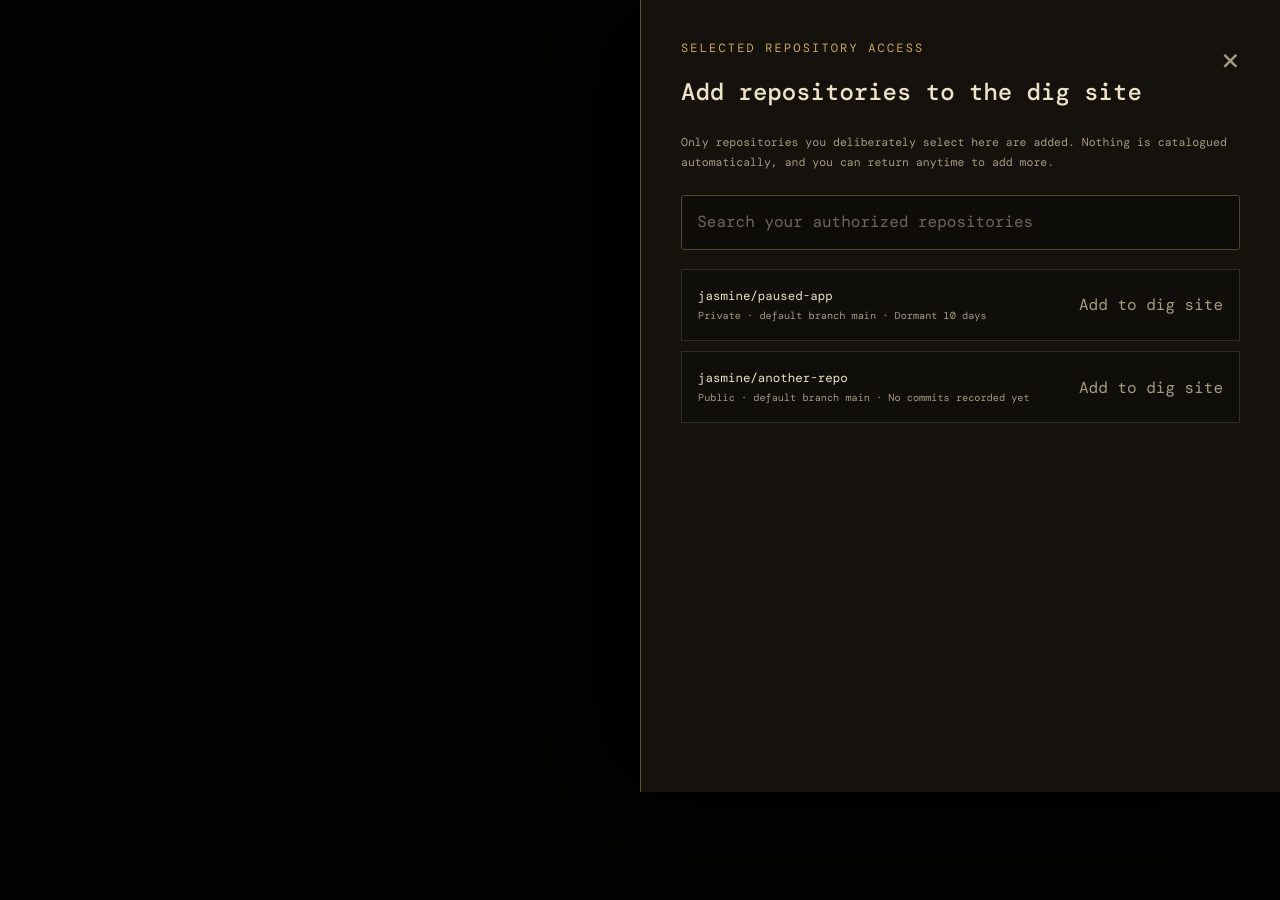
Test case: RepositoryPicker › shows a no-match message when the search has no results
Type "nothing-matches-this" into the search field named "Search authorized repositories". click: {"x": 960, "y": 222}
box: [681, 195, 1240, 250]
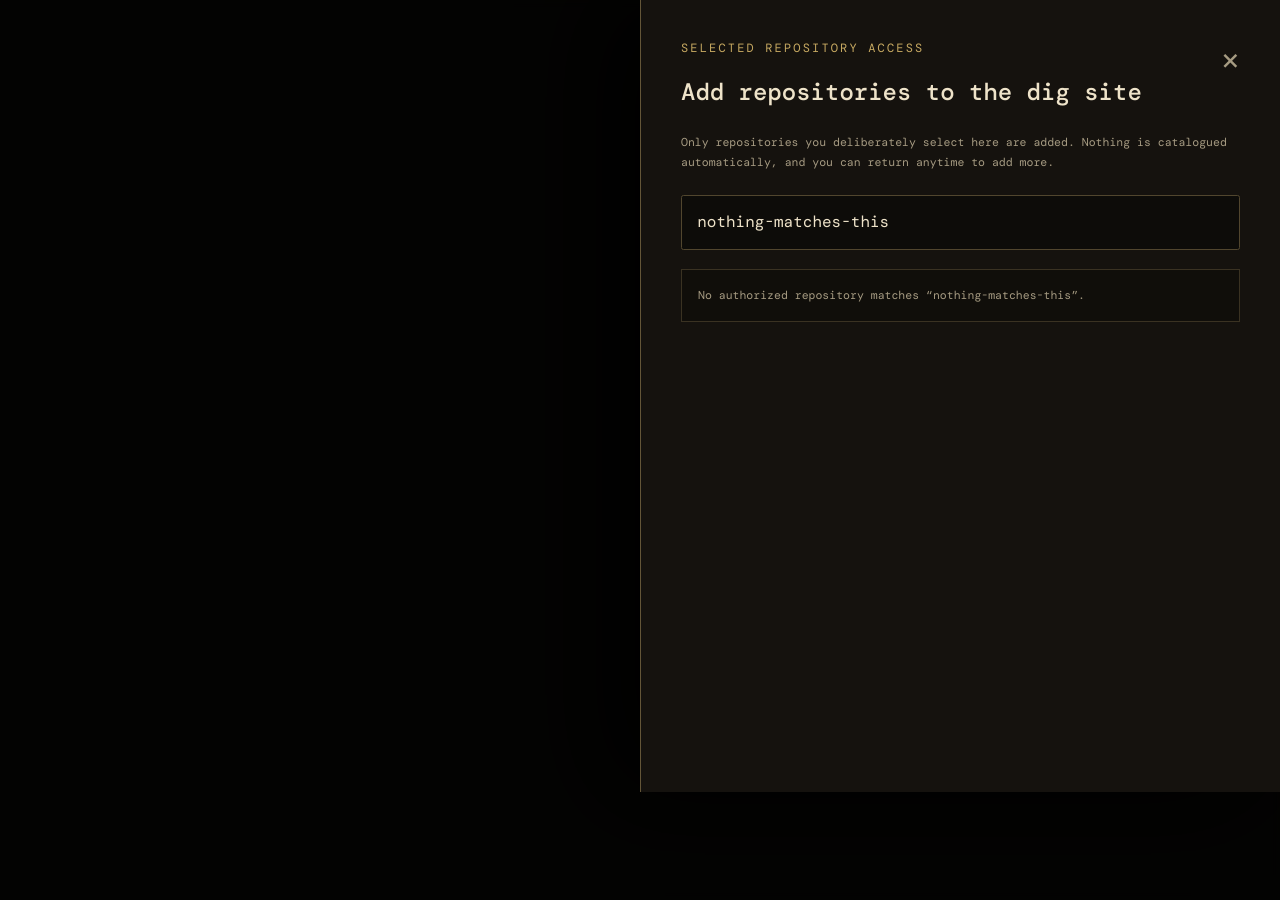
Result: the text "No authorized repository matches “nothing-matches-this”." is shown at [681, 269, 1240, 322]
